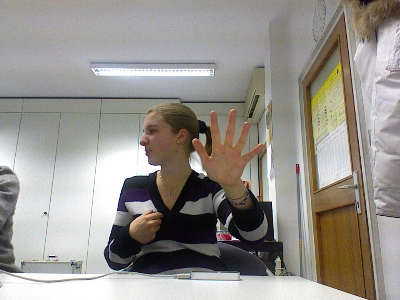布: (191, 108, 263, 185)
